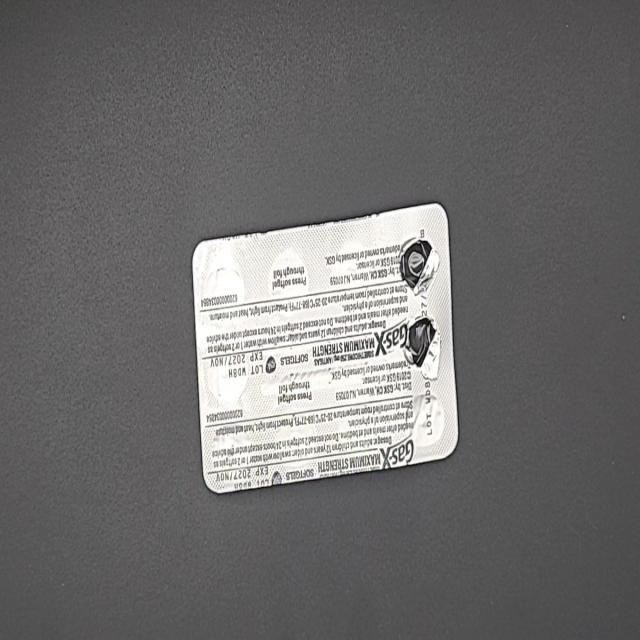defect: (401, 310, 443, 383), (397, 232, 441, 300)
